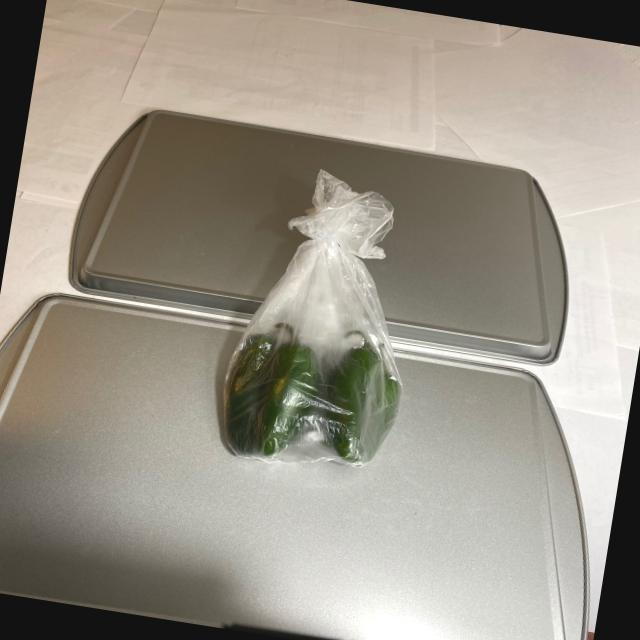chilli: (204, 294, 420, 482)
